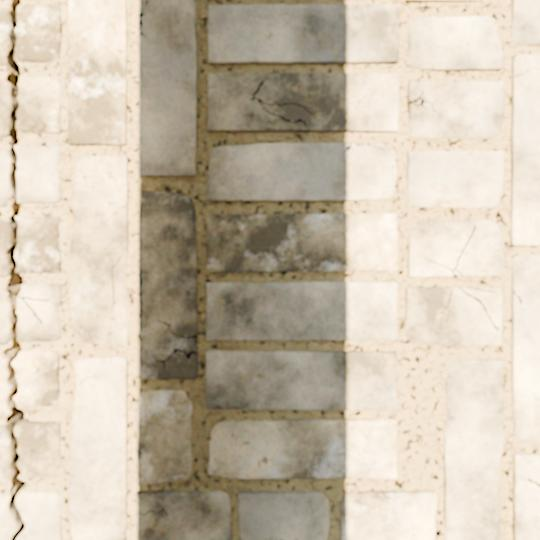brick: (208, 419, 396, 478), (208, 5, 398, 63), (206, 351, 396, 409), (208, 73, 398, 131), (207, 282, 396, 340), (207, 214, 396, 271), (70, 156, 127, 345), (139, 191, 196, 378), (207, 144, 395, 200), (444, 359, 502, 539), (69, 356, 126, 539), (139, 0, 195, 175), (68, 0, 126, 144), (510, 55, 539, 244), (407, 82, 504, 138), (407, 151, 503, 207), (405, 288, 501, 344), (408, 220, 504, 275), (511, 255, 539, 440), (137, 391, 191, 484), (408, 17, 502, 70), (340, 490, 436, 539), (136, 490, 230, 539), (237, 491, 328, 539), (513, 453, 539, 539), (511, 0, 539, 45), (406, 0, 475, 1), (140, 0, 144, 10)
broken_brick: (15, 3, 62, 63), (13, 349, 60, 409), (16, 144, 62, 203), (16, 420, 62, 479), (18, 282, 62, 342), (16, 215, 61, 273), (17, 75, 61, 134), (17, 491, 62, 539), (0, 495, 15, 539), (0, 424, 11, 483), (0, 78, 10, 137), (0, 7, 9, 66), (0, 354, 9, 413), (0, 287, 9, 345), (0, 148, 9, 206), (0, 219, 8, 277)
crack: (2, 0, 50, 539), (423, 223, 476, 276), (440, 286, 499, 332), (155, 318, 197, 344), (408, 89, 441, 117), (154, 348, 197, 369), (344, 141, 383, 152), (137, 0, 148, 38), (513, 66, 539, 78), (135, 507, 168, 515), (78, 375, 94, 385), (375, 423, 396, 430), (526, 478, 539, 487), (391, 18, 398, 26), (513, 53, 518, 58), (391, 165, 394, 172), (25, 127, 29, 131)
